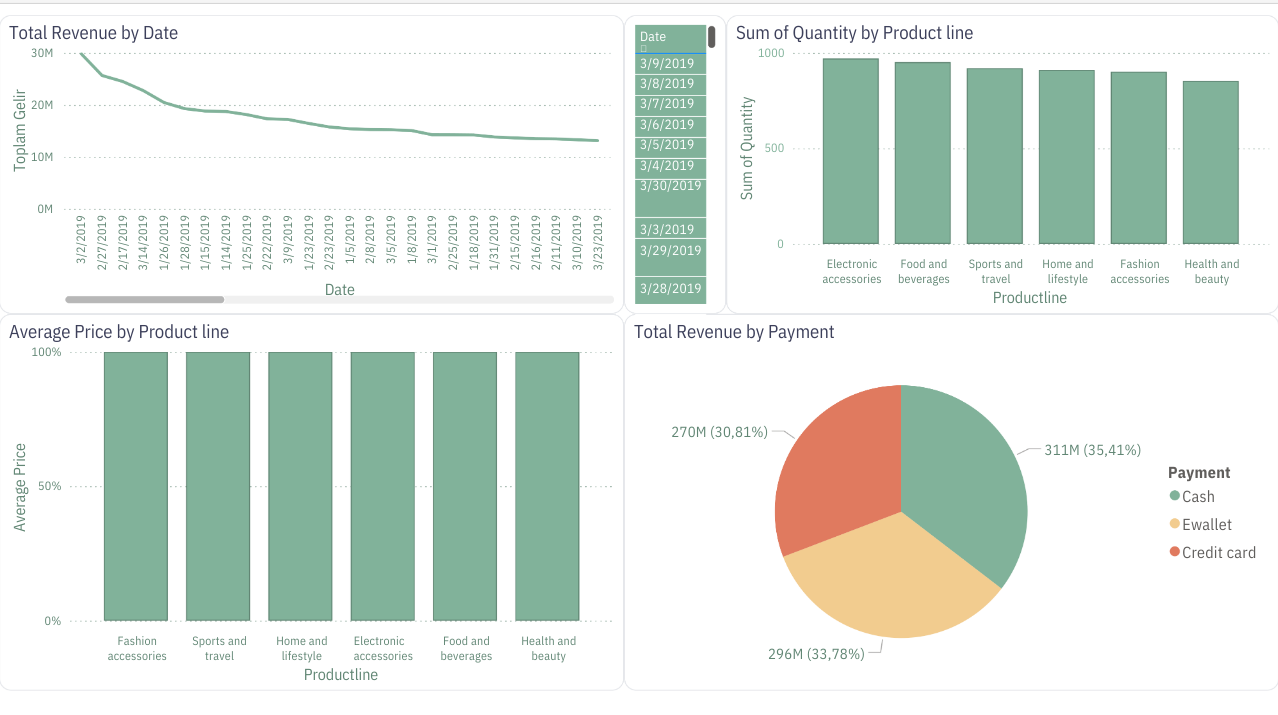

Layout of this report page (visuals, bound fields, positions):
{"tool":"powerbi","page":{"name":"Dashboard","canvas":[1280,720],"ordinal":6},"visuals":[{"type":"pieChart","title":"Total Revenue by Payment","fields":{"Category":["supermarket_sales - Sheet1.Payment"],"Y":["supermarket_sales - Sheet1.Toplam Gelir"]},"box":[660.7,403.6,619.1,316.7],"z":0},{"type":"clusteredColumnChart","fields":{"Category":["supermarket_sales - Sheet1.Product line"],"Y":["Sum(supermarket_sales - Sheet1.Quantity)"]},"box":[0,371.4,625,348.8],"z":1000},{"type":"lineChart","title":"Total Revenue by Date","fields":{"Category":["supermarket_sales - Sheet1.Date"],"Y":["supermarket_sales - Sheet1.Toplam Gelir"]},"box":[0,40.5,625,331],"z":2000},{"type":"tableEx","fields":{"Values":["supermarket_sales - Sheet1.Date"]},"box":[625,28.6,107.1,331],"z":3000},{"type":"clusteredColumnChart","fields":{"Category":["supermarket_sales - Sheet1.Product line"],"Y":["supermarket_sales - Sheet1.Avg Basket Price"]},"box":[742.9,148.8,536.9,254.8],"z":4000},{"type":"tableEx","fields":{"Values":["Currency.Currency (Para Birimi)","supermarket_sales - Sheet1.Average Price","supermarket_sales - Sheet1.Total by currency"]},"box":[742.9,28.6,536.9,119],"z":5000}]}

Visuals, with their boxes in screenshot pixels (x1, y1, x2, y2), scaled from the page's 1280x720 canvas onto the 1278x715 screenshot:
"Total Revenue by Payment" pieChart: 660:401:1277:714
clusteredColumnChart - supermarket_sales - Sheet1.Product line x Sum(supermarket_sales - Sheet1.Quantity): 0:369:624:714
"Total Revenue by Date" lineChart: 0:40:624:369
tableEx - supermarket_sales - Sheet1.Date: 624:28:731:357
clusteredColumnChart - supermarket_sales - Sheet1.Product line x supermarket_sales - Sheet1.Avg Basket Price: 742:148:1277:401
tableEx - Currency.Currency (Para Birimi) x supermarket_sales - Sheet1.Average Price: 742:28:1277:147
